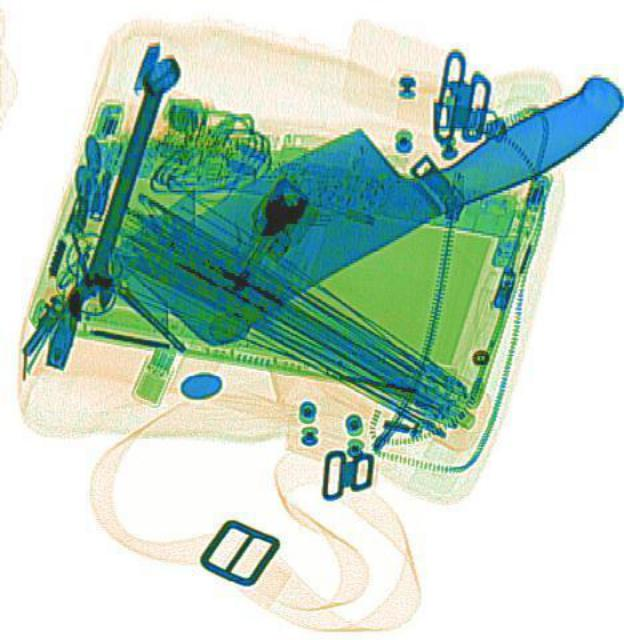Knife: (120, 21, 622, 353)
Wrench: (61, 47, 183, 321)
